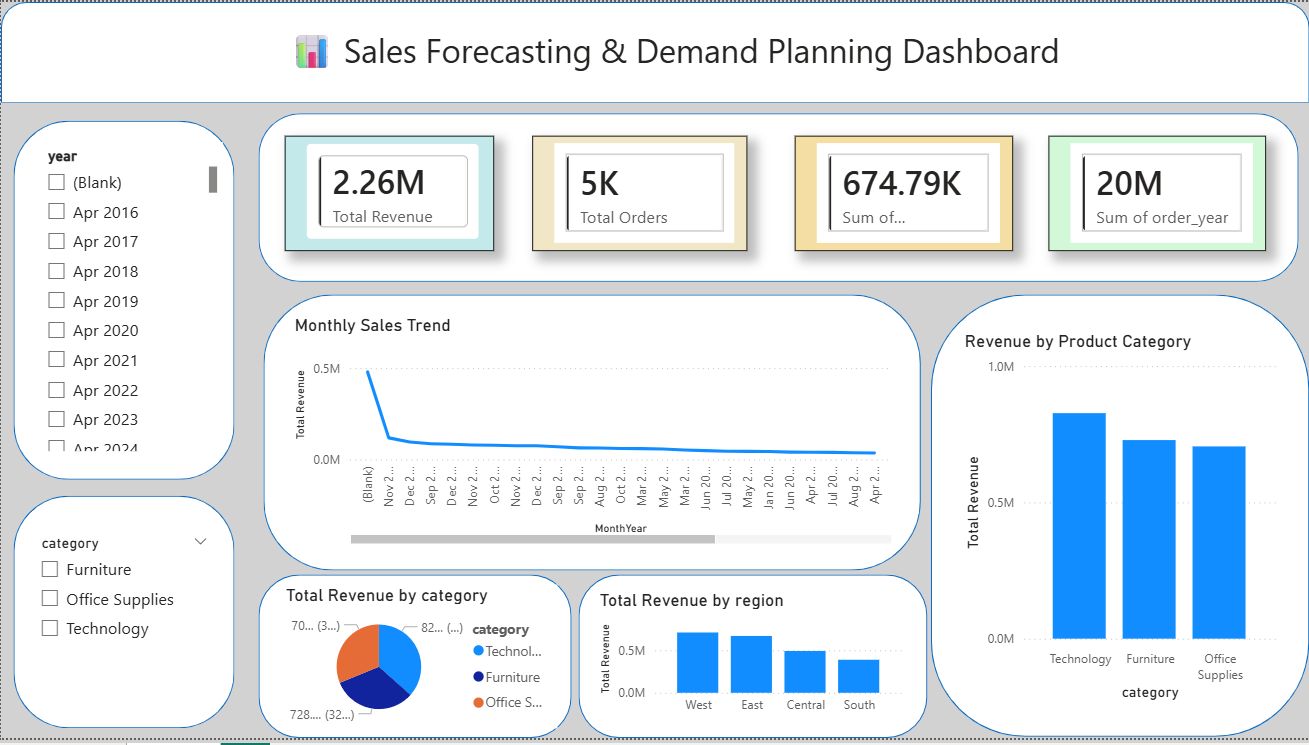

Layout of this report page (visuals, bound fields, positions):
{"tool":"powerbi","page":{"name":"Page 1","canvas":[1280,720],"ordinal":0},"visuals":[{"type":"shape","box":[0,0,1280,98.8],"z":0},{"type":"textbox","box":[277.5,21.2,771.2,52.5],"z":1},{"type":"shape","box":[252.5,108.8,1017.5,165],"z":2},{"type":"cardVisual","fields":{"Data":["cleaned_sales.Total Revenue"]},"box":[277.5,131.2,205,112.5],"z":3},{"type":"cardVisual","fields":{"Data":["cleaned_sales.Total Orders"]},"box":[520,131.2,210,112.5],"z":4},{"type":"cardVisual","fields":{"Data":["Sum(forecast_results.predicted_sales)"]},"box":[776.2,131.2,213.8,112.5],"z":5},{"type":"cardVisual","fields":{"Data":["Sum(cleaned_sales.order_year)"]},"box":[1025,131.2,212.5,112.5],"z":6},{"type":"shape","box":[256.2,286.2,643,270],"z":7},{"type":"lineChart","title":"Monthly Sales Trend","fields":{"Y":["cleaned_sales.Total Revenue"],"Category":["DateTable.MonthYear"]},"box":[282.5,306.2,593.8,228.8],"z":8},{"type":"shape","box":[252.5,560,306.2,160],"z":9},{"type":"pieChart","fields":{"Category":["cleaned_sales.category"],"Y":["cleaned_sales.Total Revenue"]},"box":[273.8,569.5,270,140.5],"z":10},{"type":"shape","box":[910,286,370,432.7],"z":11},{"type":"columnChart","title":"Revenue by Product Category","fields":{"Category":["cleaned_sales.category"],"Y":["cleaned_sales.Total Revenue"]},"box":[937.8,321.5,315,366.2],"z":12},{"type":"shape","box":[565,560,341.2,160],"z":13},{"type":"columnChart","fields":{"Category":["cleaned_sales.region"],"Y":["cleaned_sales.Total Revenue"]},"box":[580.3,575.2,306.2,131.2],"z":14},{"type":"shape","box":[12.5,116.2,216.2,351.2],"z":15},{"type":"slicer","fields":{"Values":["DateTable.MonthYear"]},"box":[32.5,137.5,183.8,307.5],"z":16},{"type":"shape","box":[12.5,482.5,216.2,227.5],"z":17},{"type":"slicer","fields":{"Values":["cleaned_sales.category"]},"box":[27.5,516.2,187.5,160],"z":18}]}

Visuals, with their boxes in screenshot pixels (x1, y1, x2, y2), scaled from the page's 1280x720 canvas onto the 1309x745 screenshot:
shape: locate(0, 0, 1308, 102)
textbox: locate(284, 22, 1072, 76)
shape: locate(258, 113, 1299, 283)
cardVisual - cleaned_sales.Total Revenue: locate(284, 136, 493, 252)
cardVisual - cleaned_sales.Total Orders: locate(532, 136, 747, 252)
cardVisual - Sum(forecast_results.predicted_sales): locate(794, 136, 1012, 252)
cardVisual - Sum(cleaned_sales.order_year): locate(1048, 136, 1266, 252)
shape: locate(262, 296, 920, 576)
"Monthly Sales Trend" lineChart: locate(289, 317, 896, 554)
shape: locate(258, 579, 571, 744)
pieChart - cleaned_sales.category x cleaned_sales.Total Revenue: locate(280, 589, 556, 735)
shape: locate(931, 296, 1308, 744)
"Revenue by Product Category" columnChart: locate(959, 333, 1281, 712)
shape: locate(578, 579, 927, 744)
columnChart - cleaned_sales.region x cleaned_sales.Total Revenue: locate(593, 595, 907, 731)
shape: locate(13, 120, 234, 484)
slicer - DateTable.MonthYear: locate(33, 142, 221, 460)
shape: locate(13, 499, 234, 735)
slicer - cleaned_sales.category: locate(28, 534, 220, 700)
